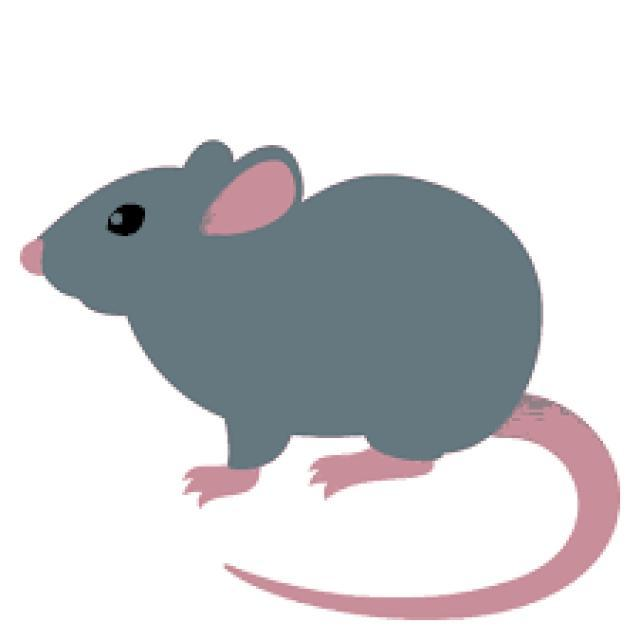Rat: (19, 88, 612, 630)
